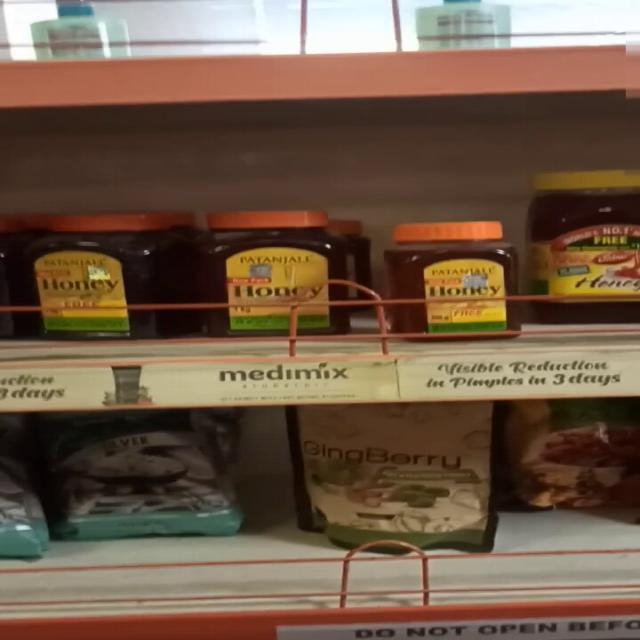Patanjali Honey: (198, 208, 349, 335), (29, 207, 174, 336), (385, 222, 525, 338)
